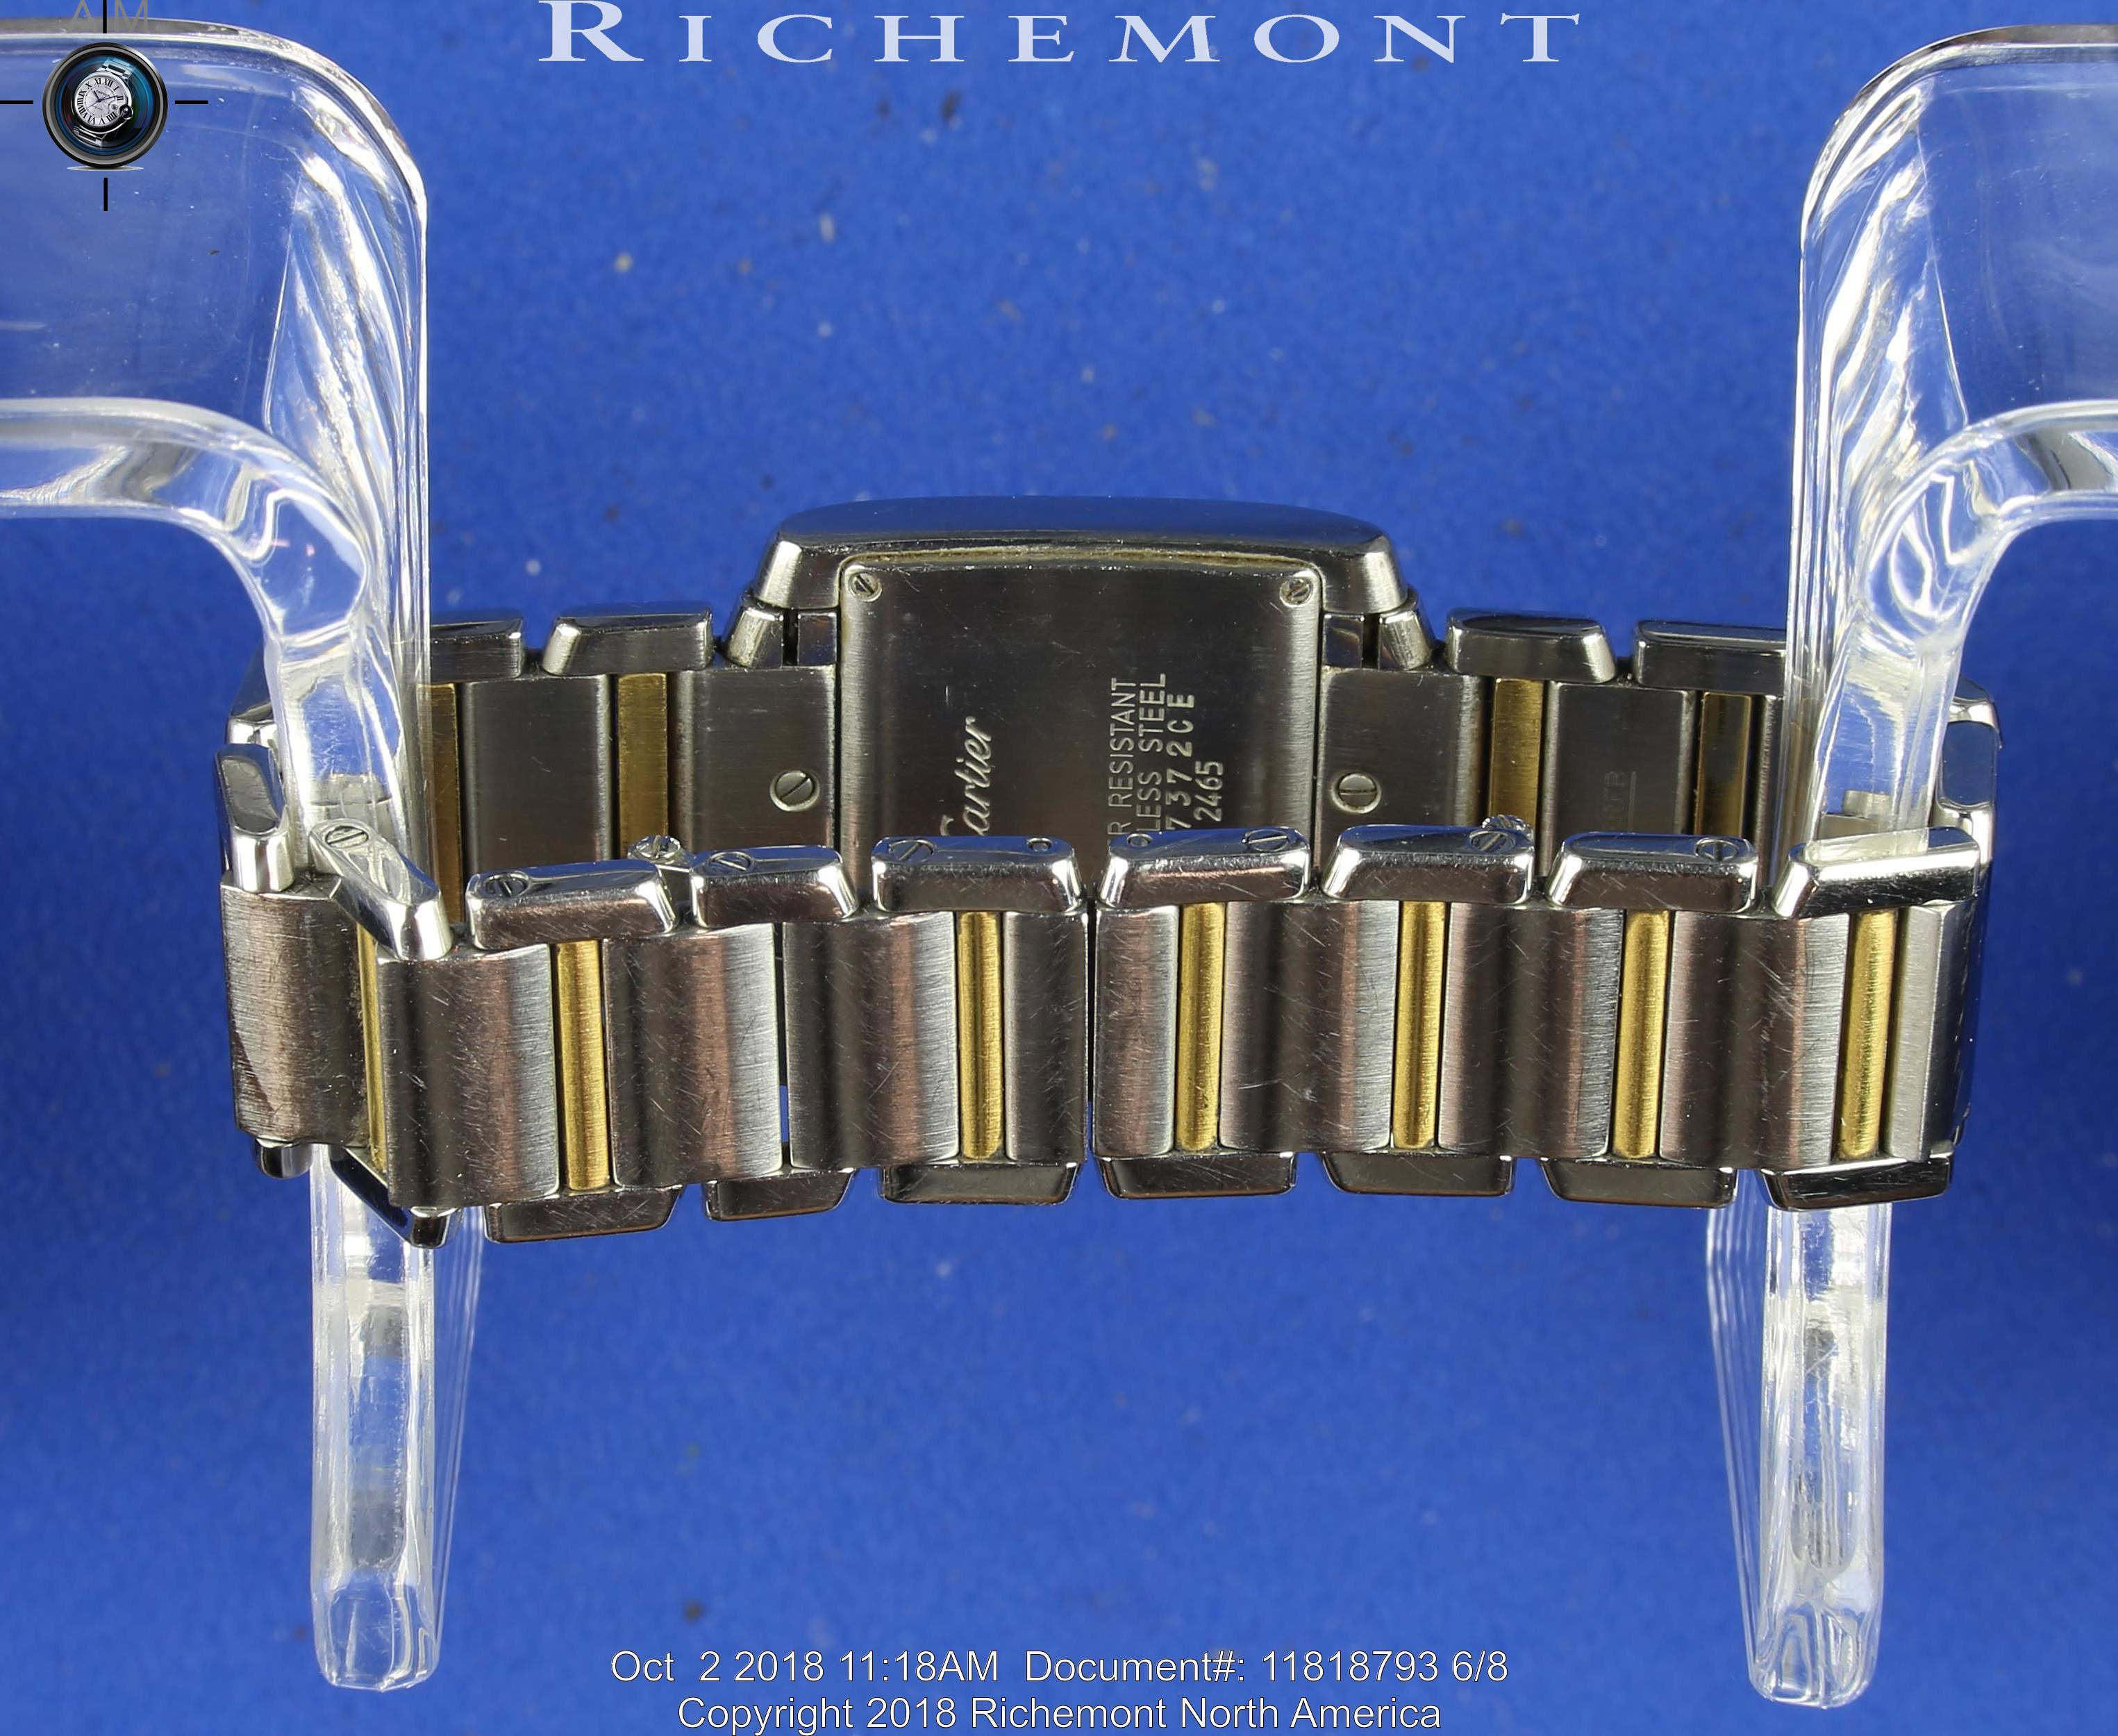watchback: (795, 528, 1347, 897)
